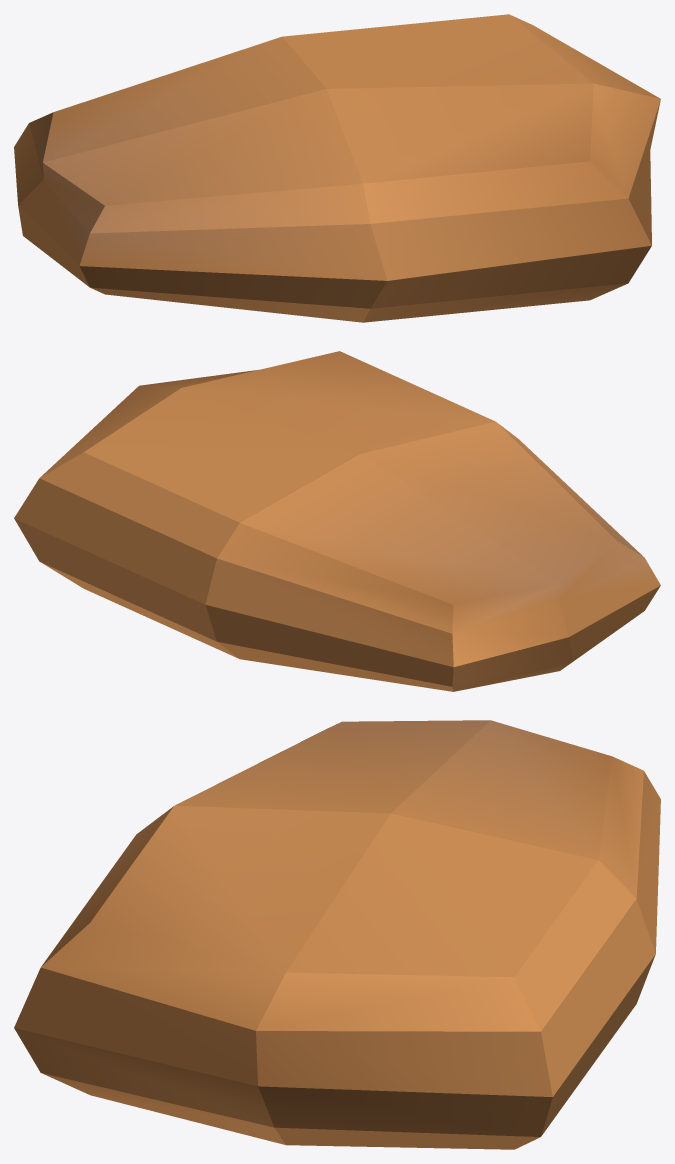
Rendered from Rock_Desert13.fbx.
The picture shows the model from 3 angles, top to bottom: view 1: azimuth 30°, elevation 25°; view 2: azimuth 150°, elevation 25°; view 3: azimuth 270°, elevation 25°; orthographic projection. The views are drawn at different scales.
Visible parts, largest first — view 1: Rock_Desert11; view 2: Rock_Desert11; view 3: Rock_Desert11.
Part boxes in pixels (bbox=[...]): Rock_Desert11: bbox=[14, 14, 660, 322]; Rock_Desert11: bbox=[14, 351, 660, 691]; Rock_Desert11: bbox=[14, 720, 660, 1149].
Size of the model in its own units: 22.47 by 5.99 by 17.96.
